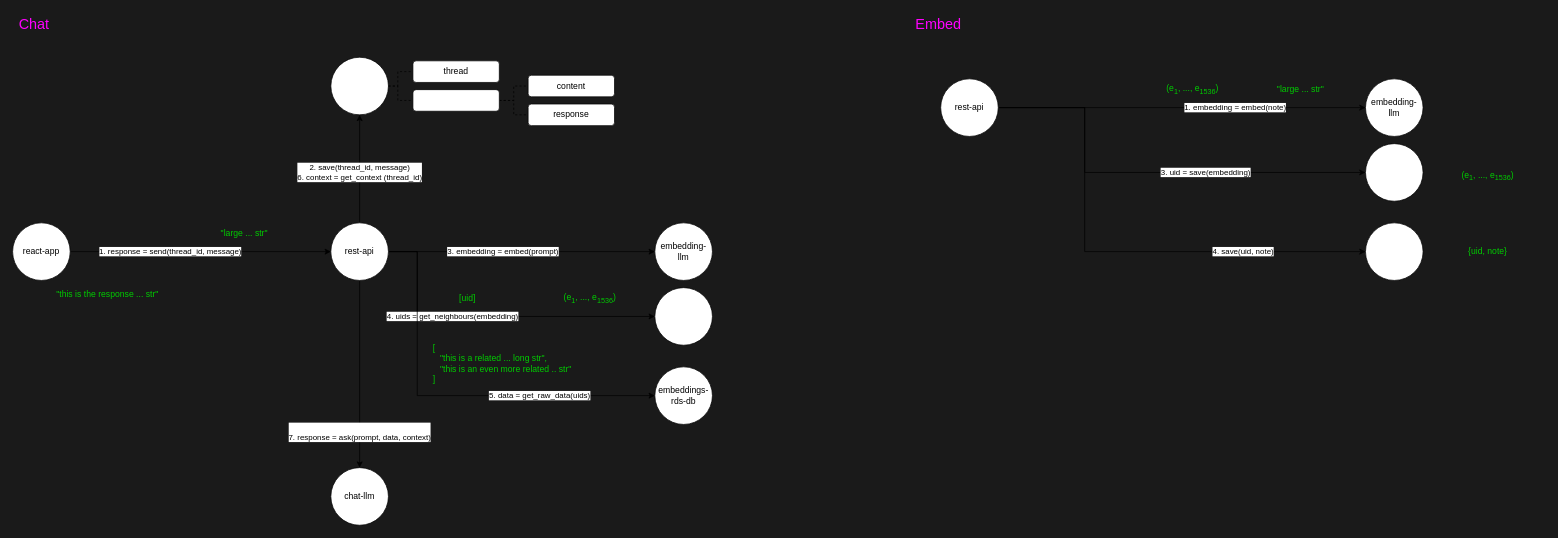
This 1558x538 diagram has some shape labels left out. The centre of each missing label's shape, as x and y in pixels:
chat-rds-db: the point at 359,86
embeddings-vector-db: the point at 683,316
message: the point at 455,100
rds-db: the point at 1394,251
vector-db: the point at 1394,172
